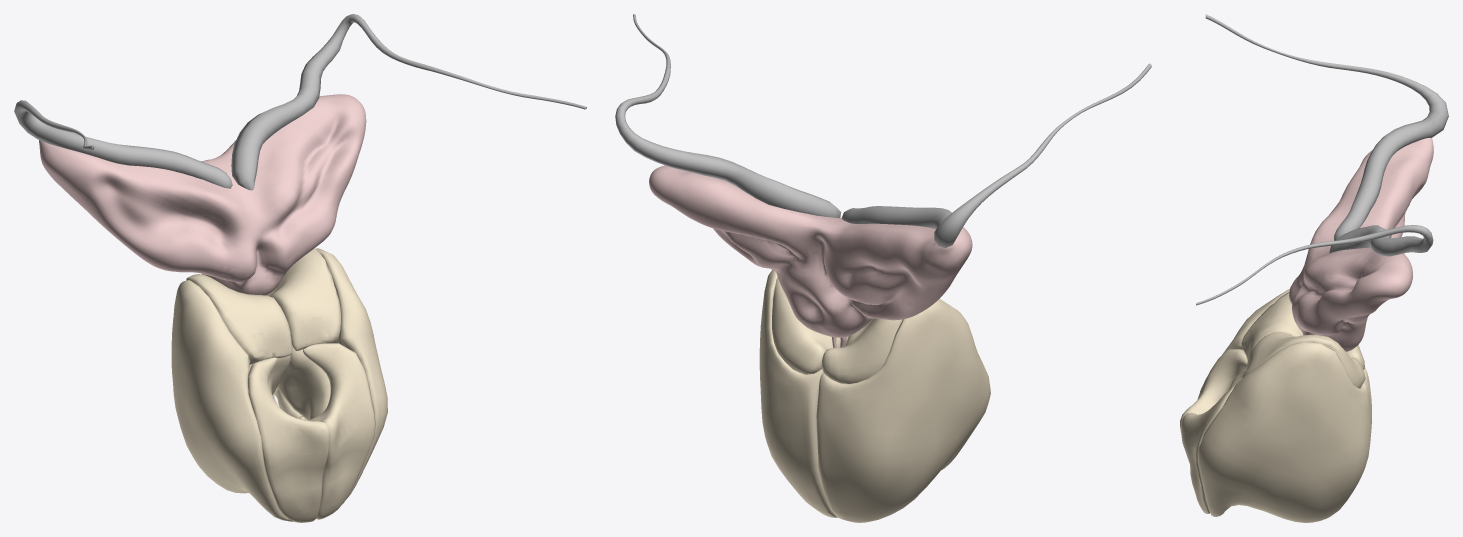
Rendered from prostate.glb.
The picture shows the model from 3 angles, left to right: view 1: azimuth 30°, elevation 25°; view 2: azimuth 150°, elevation 25°; view 3: azimuth 270°, elevation 25°; orthographic projection. The views are drawn at different scales.
Parts seen in each view (by area): view 1: VH_M_seminal_vesicle, VH_M_peripheral_zone_of_prostate_R, VH_M_anterior_fibromuscular_stroma_R, VH_M_anterior_fibromuscular_stroma_L, VH_M_vas_deferens_R, VH_M_vas_deferens_L, VH_M_central_zone_of_prostate_L, VH_M_peripheral_zone_of_prostate_L, VH_M_central_zone_of_prostate_R, VH_M_base_of_prostate, VH_M_transition_zone__of_prostate_L; view 2: VH_M_peripheral_zone_of_prostate_R, VH_M_seminal_vesicle, VH_M_peripheral_zone_of_prostate_L, VH_M_vas_deferens_R, VH_M_vas_deferens_L, VH_M_central_zone_of_prostate_R, VH_M_central_zone_of_prostate_L; view 3: VH_M_peripheral_zone_of_prostate_L, VH_M_seminal_vesicle, VH_M_vas_deferens_L, VH_M_vas_deferens_R, VH_M_central_zone_of_prostate_L, VH_M_central_zone_of_prostate_R, VH_M_anterior_fibromuscular_stroma_L, VH_M_anterior_fibromuscular_stroma_R, VH_M_base_of_prostate, VH_M_peripheral_zone_of_prostate_R.
Part boxes in pixels (<box>): VH_M_seminal_vesicle: <box>39,94,366,295</box>; VH_M_peripheral_zone_of_prostate_R: <box>171,280,293,521</box>; VH_M_anterior_fibromuscular_stroma_R: <box>248,357,329,522</box>; VH_M_anterior_fibromuscular_stroma_L: <box>303,343,375,519</box>; VH_M_vas_deferens_R: <box>231,14,586,190</box>; VH_M_vas_deferens_L: <box>14,100,232,188</box>; VH_M_central_zone_of_prostate_L: <box>267,248,340,387</box>; VH_M_peripheral_zone_of_prostate_L: <box>272,248,387,499</box>; VH_M_central_zone_of_prostate_R: <box>186,274,292,364</box>; VH_M_base_of_prostate: <box>235,317,367,454</box>; VH_M_transition_zone__of_prostate_L: <box>277,346,330,420</box>; VH_M_peripheral_zone_of_prostate_R: <box>816,299,990,522</box>; VH_M_seminal_vesicle: <box>649,165,972,337</box>; VH_M_peripheral_zone_of_prostate_L: <box>759,270,837,517</box>; VH_M_vas_deferens_R: <box>615,14,841,217</box>; VH_M_vas_deferens_L: <box>841,63,1151,247</box>; VH_M_central_zone_of_prostate_R: <box>821,318,902,383</box>; VH_M_central_zone_of_prostate_L: <box>772,277,848,374</box>; VH_M_peripheral_zone_of_prostate_L: <box>1197,342,1371,522</box>; VH_M_seminal_vesicle: <box>1289,138,1433,351</box>; VH_M_vas_deferens_L: <box>1205,14,1448,240</box>; VH_M_vas_deferens_R: <box>1196,225,1433,305</box>; VH_M_central_zone_of_prostate_L: <box>1241,332,1365,388</box>; VH_M_central_zone_of_prostate_R: <box>1241,292,1364,369</box>; VH_M_anterior_fibromuscular_stroma_L: <box>1181,379,1240,513</box>; VH_M_anterior_fibromuscular_stroma_R: <box>1180,349,1247,443</box>; VH_M_base_of_prostate: <box>1182,325,1253,447</box>; VH_M_peripheral_zone_of_prostate_R: <box>1200,289,1371,409</box>.
Size of the model in its own units: 0.083 by 0.0706 by 0.0428.
